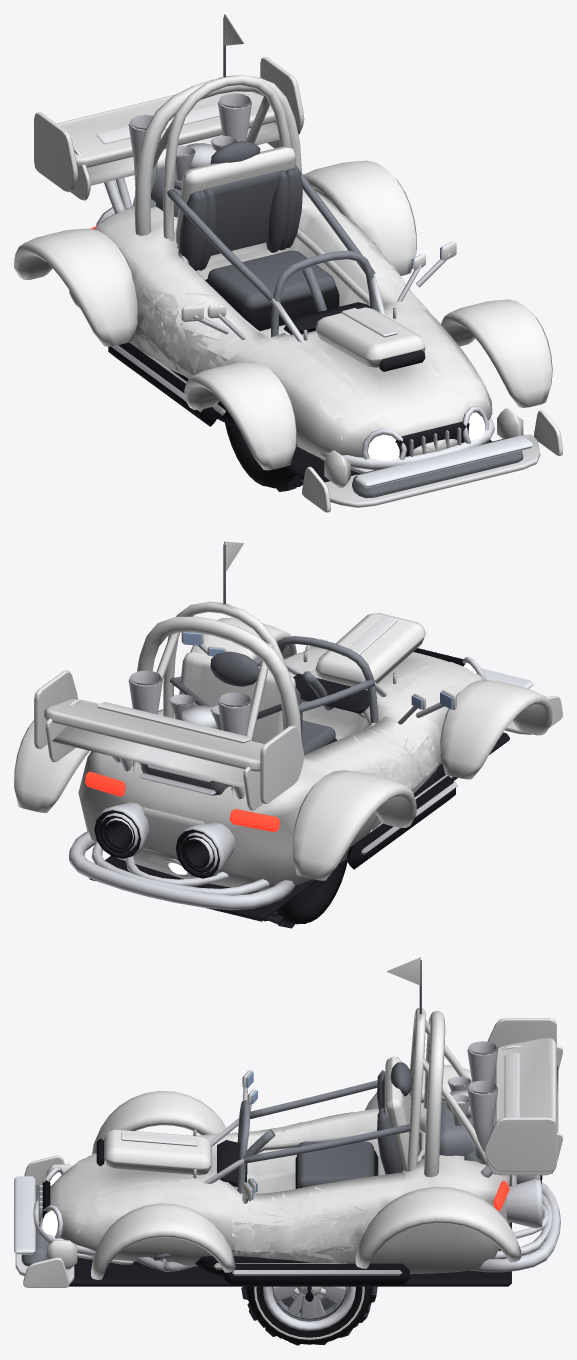
The model's file is karts.glb.
3 views of the same model, one above another, from view 1: azimuth 30°, elevation 25°; view 2: azimuth 150°, elevation 25°; view 3: azimuth 270°, elevation 25° (orthographic). The views are drawn at different scales.
Parts seen in each view (by area): view 1: kart.body.heavy, kart.body, kart.body.light, kart.livery.heavy.flames, kart.livery.heavy.waves, kart.livery.heavy.tiger, kart.livery.heavy.spots, kart.livery.heavy.twin, kart.wheel, kart.livery.heavy.checks, kart.livery.heavy.chevrons, kart.livery.heavy.diamonds (+1 smaller); view 2: kart.body.heavy, kart.body, kart.body.light, kart.wheel, kart.livery.heavy.flames, kart.livery.heavy.waves, kart.livery.heavy.tiger, kart.livery.heavy.spots, kart.livery.heavy.chevrons, kart.livery.heavy.twin, kart.livery.heavy.diamonds, kart.livery.heavy.checks; view 3: kart.body.heavy, kart.body.light, kart.body, kart.wheel, kart.livery.heavy.flames, kart.livery.heavy.waves, kart.livery.heavy.twin, kart.livery.heavy.diamonds, kart.livery.heavy.spots, kart.livery.heavy.tiger, kart.livery.heavy.chevrons, kart.wheel.heavy (+2 smaller).
Boxes of the visible parts, x1,y1,x2,y2 form: kart.body.heavy: (14,57,552,498); kart.body: (70,122,562,512); kart.body.light: (132,14,385,473); kart.livery.heavy.flames: (134,236,468,424); kart.livery.heavy.waves: (134,273,477,429); kart.livery.heavy.tiger: (138,243,485,418); kart.livery.heavy.spots: (138,254,475,418); kart.livery.heavy.twin: (138,258,483,430); kart.wheel: (225,422,303,488); kart.livery.heavy.checks: (137,250,490,422); kart.livery.heavy.chevrons: (147,240,468,409); kart.livery.heavy.diamonds: (140,276,466,416); kart.body.heavy: (14,613,552,921); kart.body: (45,639,562,895); kart.body.light: (104,541,387,888); kart.wheel: (270,860,347,924); kart.livery.heavy.flames: (158,649,473,830); kart.livery.heavy.waves: (289,647,481,824); kart.livery.heavy.tiger: (285,648,478,826); kart.livery.heavy.spots: (295,648,475,827); kart.livery.heavy.chevrons: (158,648,468,822); kart.livery.heavy.twin: (288,654,482,824); kart.livery.heavy.diamonds: (291,650,463,788); kart.livery.heavy.checks: (284,647,476,830); kart.body.heavy: (14,1010,560,1286); kart.body.light: (77,957,549,1269); kart.body: (15,1045,562,1287); kart.wheel: (246,1286,375,1344); kart.livery.heavy.flames: (77,1112,366,1262); kart.livery.heavy.waves: (76,1124,366,1262); kart.livery.heavy.twin: (77,1122,364,1262); kart.livery.heavy.diamonds: (86,1128,356,1259); kart.livery.heavy.spots: (88,1122,355,1263); kart.livery.heavy.tiger: (82,1118,357,1263); kart.livery.heavy.chevrons: (92,1112,357,1263); kart.wheel.heavy: (241,1286,377,1345).
Bounding box in the file's own units: 2.34 × 2.71 × 3.55.
